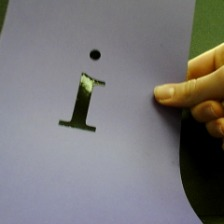violet1: (52, 41, 112, 139)
